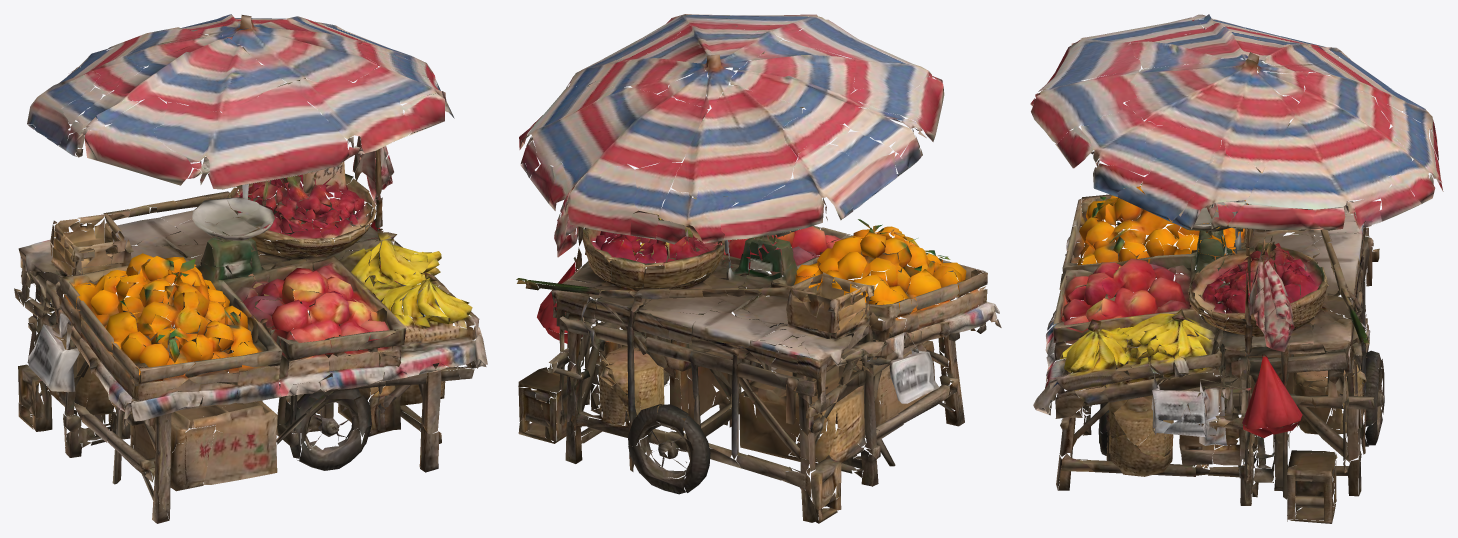
File: m_fruit_stall.glb
3 renders of one model, left to right at view 1: azimuth 30°, elevation 25°; view 2: azimuth 150°, elevation 25°; view 3: azimuth 270°, elevation 25°, orthographic. The views are drawn at different scales.
Visible parts, largest first — view 1: tripo_node_6df826a0-a826-43c6-babb-124788496191; view 2: tripo_node_6df826a0-a826-43c6-babb-124788496191; view 3: tripo_node_6df826a0-a826-43c6-babb-124788496191.
Part boxes in pixels (left/top/right/bottom): tripo_node_6df826a0-a826-43c6-babb-124788496191: left=14, top=14, right=487, bottom=523; tripo_node_6df826a0-a826-43c6-babb-124788496191: left=516, top=14, right=1001, bottom=523; tripo_node_6df826a0-a826-43c6-babb-124788496191: left=1030, top=14, right=1443, bottom=523.
Size of the model in its own units: 1.54 by 1.58 by 1.48.
1 material, 1 textured.
